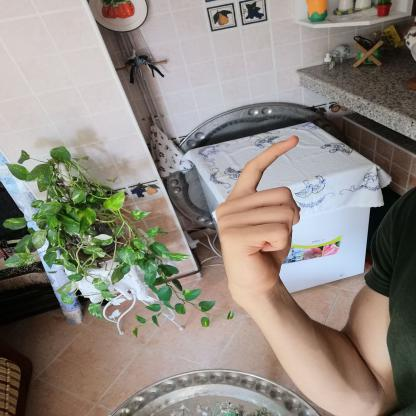RAA: (206, 129, 312, 305)
